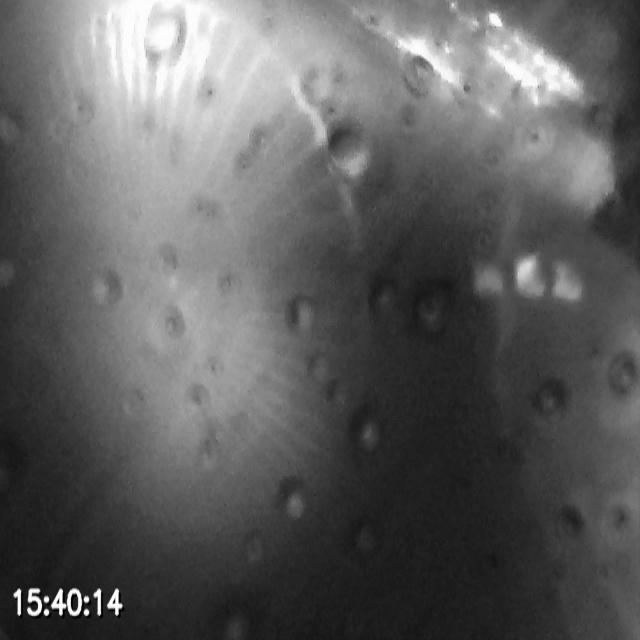white-dots: (469, 250, 586, 305)
